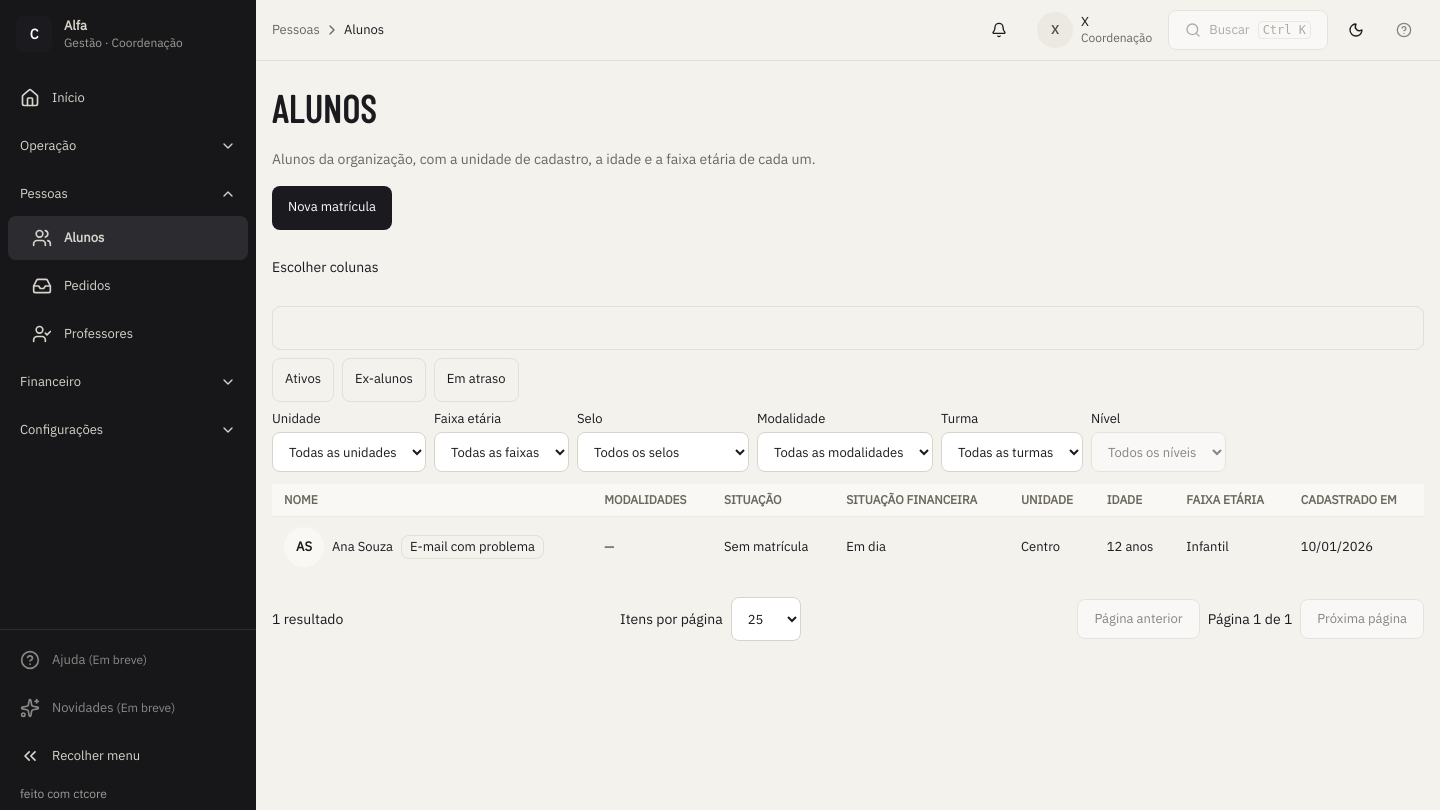
Test: ficha do aluno (RF-ALU-03) › CA9: clicar no nome abre o painel em /alunos/:id e Fechar volta a /alunos
Click the link with aria-label "Abrir a ficha de Ana Souza": (362, 546) [332, 538, 393, 555]
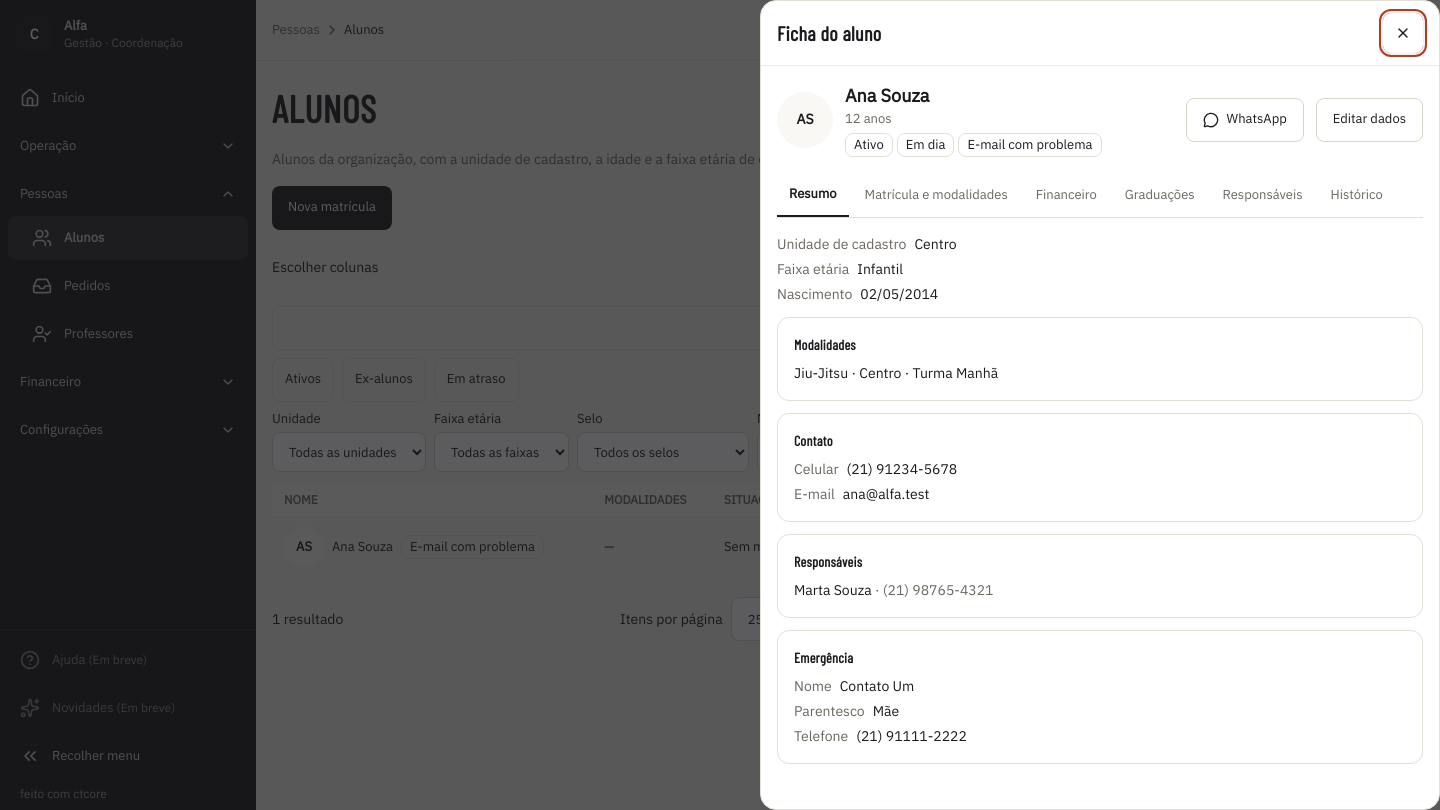
Result: the text "Contato Um" is shown at [840, 676, 914, 697]
Click the button named "Fechar": (1403, 33) [1383, 13, 1423, 53]
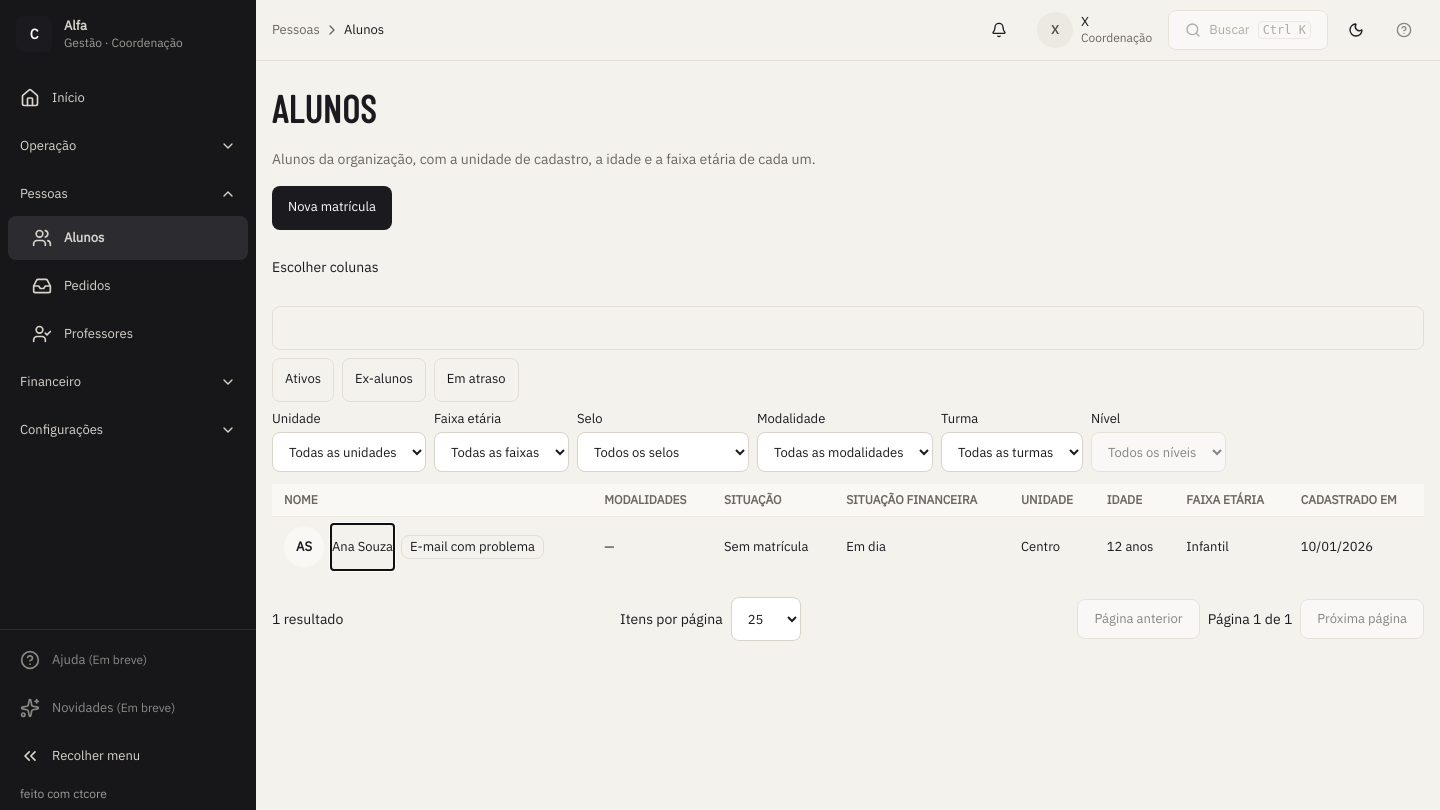
Result: the dialog is gone
